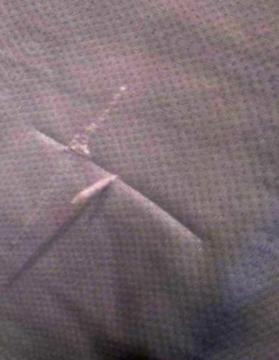snag: (58, 166, 139, 218)
